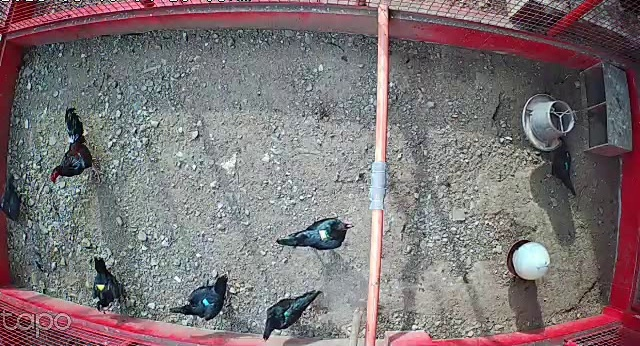Chicken: (274, 207, 358, 260), (168, 270, 231, 324), (262, 286, 320, 340), (87, 251, 130, 314), (545, 133, 580, 196), (1, 172, 22, 223)
Rooster: (48, 104, 108, 186)
Saddle_Color_Blue: (200, 296, 212, 309)
Saddle_Color_Yellow: (96, 283, 110, 292)
Saddle_Color_YellowGreen: (321, 228, 330, 242)
